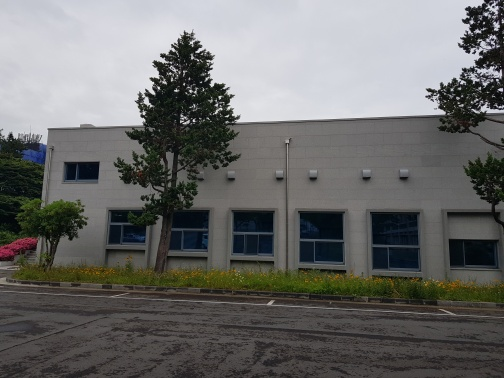College of Social Sciences: (36, 100, 501, 297), (219, 199, 430, 292)
